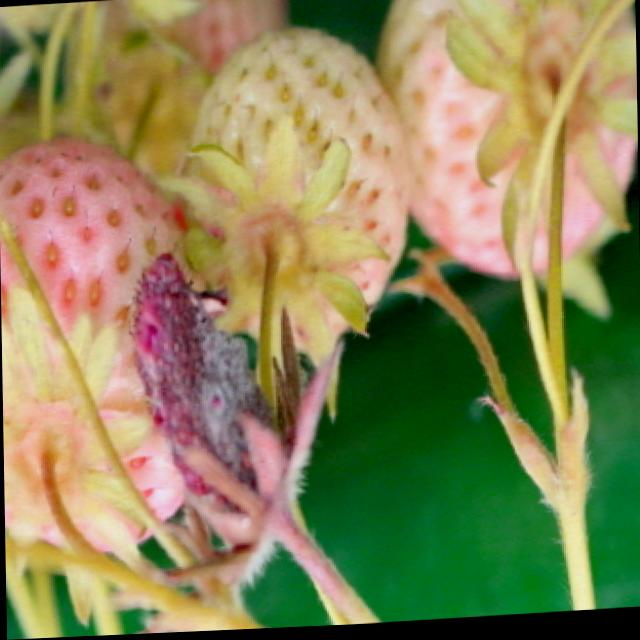Gray Mold: (128, 250, 343, 590)
